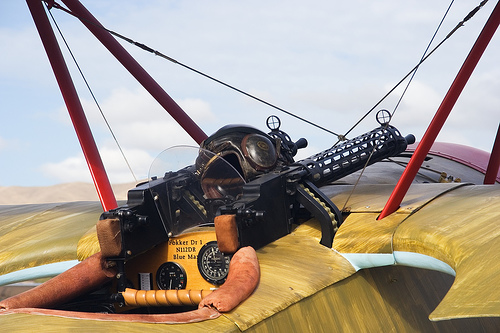rifle: (93, 123, 431, 249)
